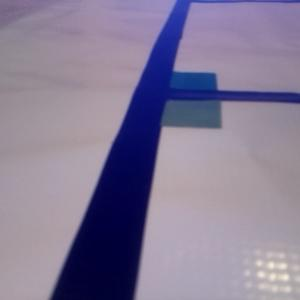bottom_right: (135, 89, 222, 128)
top_right: (143, 72, 218, 100)
